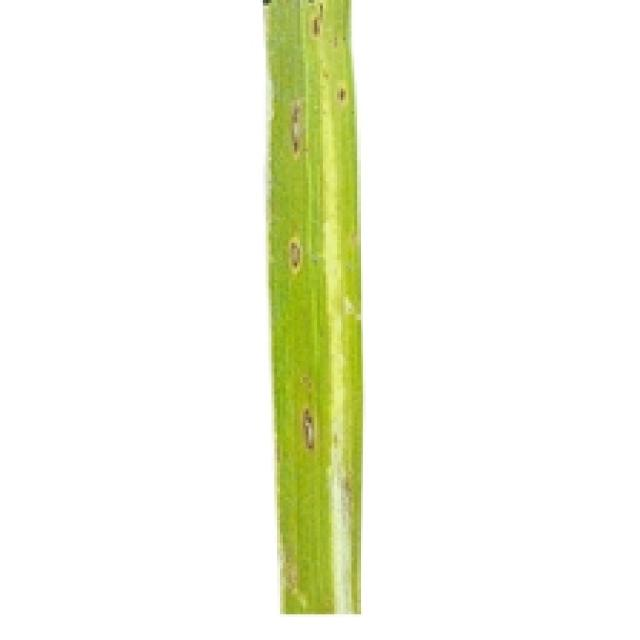Rice___Rice_Blast: (260, 0, 362, 618)
